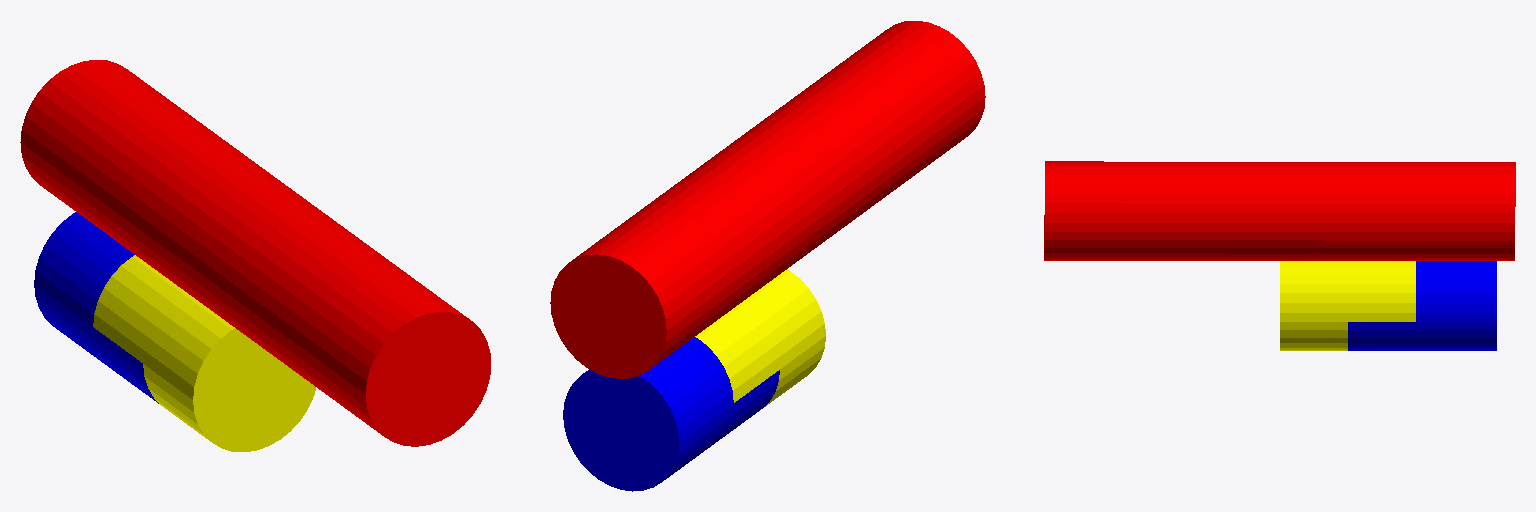
The robot description file, URDF, robot "robot_demo":
<?xml version="1.0"?>

<robot name="robot_demo">

  <!-- Color of materials -->
  <material name="yellow">
    <color rgba="1 1 0 1"/>
  </material>
  <material name="blue">
    <color rgba="0 0 1 1"/>
  </material>
  <material name="red">
    <color rgba="1 0 0 1"/>
  </material>

  <link name="base_link">
    <visual>
      <geometry>
        <cylinder length="0.55" radius="0.2"/>
      </geometry>
      <origin rpy="1.5708 0 0" xyz="0 0.275 0"/>
      <material name="yellow" />
    </visual>
  </link>

  <joint name="pan_joint" type="revolute">
    <parent link="base_link"/>
    <child link="pan_link"/>
    <origin xyz="0 0 0"/>
    <axis xyz="1 0 0" />
    <limit effort="300" velocity="0.1" lower="-3.1" upper="3.1"/>
  </joint>

  <link name="pan_link">
    <visual>
      <geometry>
        <cylinder length="0.6" radius="0.2"/>
      </geometry>
      <origin rpy="1.5708 0 0" xyz="0 0.575 0"/>
      <material name="blue" />
    </visual>
  </link>

  <joint name="tilt_joint" type="revolute">
    <parent link="pan_link"/>
    <child link="tilt_link"/>
    <origin xyz="0 0 0.4"/>
    <axis xyz="0 1 0" />
    <limit effort="300" velocity="0.1" lower="-0.85" upper="0.85"/>
  </joint>

  <link name="tilt_link">
    <visual>
      <geometry>
        <cylinder length="1.9" radius="0.2"/>
      </geometry>
      <origin rpy="1.57 0 0" xyz="0 0 0"/>
      <material name="red" />
    </visual>
  </link>

</robot>

--- What the picture shows (computed from the rendered views, not written in the file) ---
The picture shows the robot from 3 angles, left to right: view 1: azimuth 30°, elevation 25°; view 2: azimuth 150°, elevation 25°; view 3: azimuth 270°, elevation 25°; orthographic projection.
Model robot_demo with 3 links and 2 joints (2 revolute), rooted at base_link, posed all joints at 0.
Visible links, largest first — view 1: tilt_link, base_link, pan_link; view 2: tilt_link, pan_link, base_link; view 3: tilt_link, base_link, pan_link.
Link boxes in pixels (box(x1,y1,x2,y2)): tilt_link: box(20, 60, 490, 446); base_link: box(93, 255, 315, 451); pan_link: box(34, 212, 158, 403); tilt_link: box(550, 21, 985, 378); pan_link: box(563, 337, 779, 491); base_link: box(695, 269, 825, 406); tilt_link: box(1044, 161, 1515, 260); base_link: box(1280, 261, 1415, 350); pan_link: box(1348, 261, 1496, 350).
Size in the robot's own frame: 0.4 by 1.9 by 0.8008 metres.
Geometry: primitives only (box / cylinder / sphere), no mesh files.